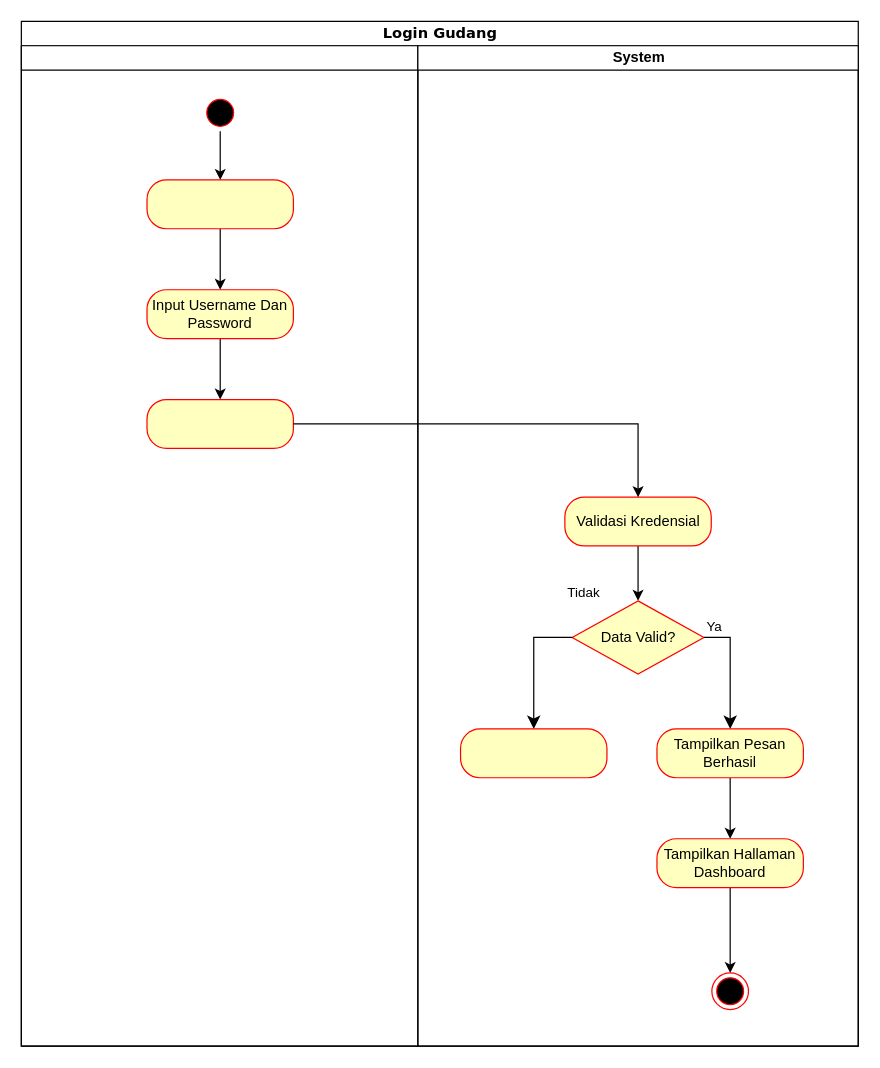
Some shapes in this 880 by 1068 pixel diagram are drawn without their labels. Here are the shapes that lost their labels. From the top down, the box of each, then its label:
(146, 179, 293, 229): Akses Halaman Login
(146, 398, 293, 448): Klik Login
(20, 45, 418, 1046): Admin
(459, 728, 607, 778): Tampilkan Pesan Kesalahan
